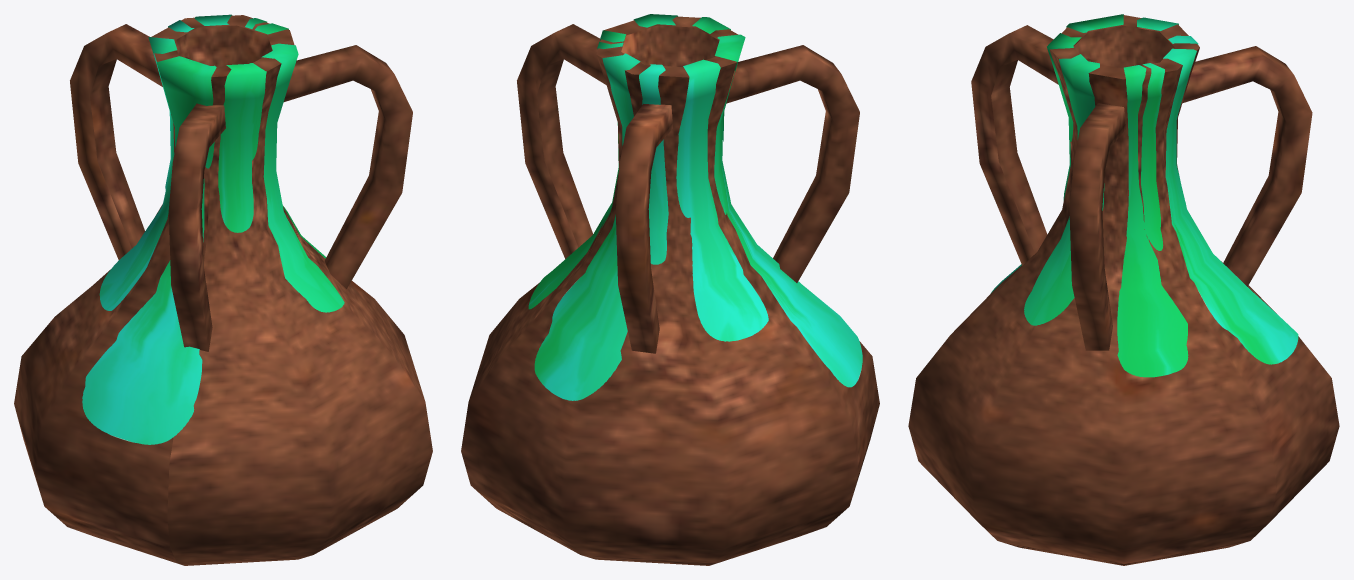
File: Jar_Explosive.fbx
3 renders of one model, left to right at view 1: azimuth 30°, elevation 25°; view 2: azimuth 150°, elevation 25°; view 3: azimuth 270°, elevation 25°, orthographic.
Visible parts, largest first — view 1: 8JarDecaled; view 2: 8JarDecaled; view 3: 8JarDecaled.
Part boxes in pixels (x1,y1,x2,y2): 8JarDecaled: (14,14,432,565); 8JarDecaled: (461,14,879,565); 8JarDecaled: (908,14,1339,565).
Size of the model in its own units: 53.22 by 62.27 by 53.22.
